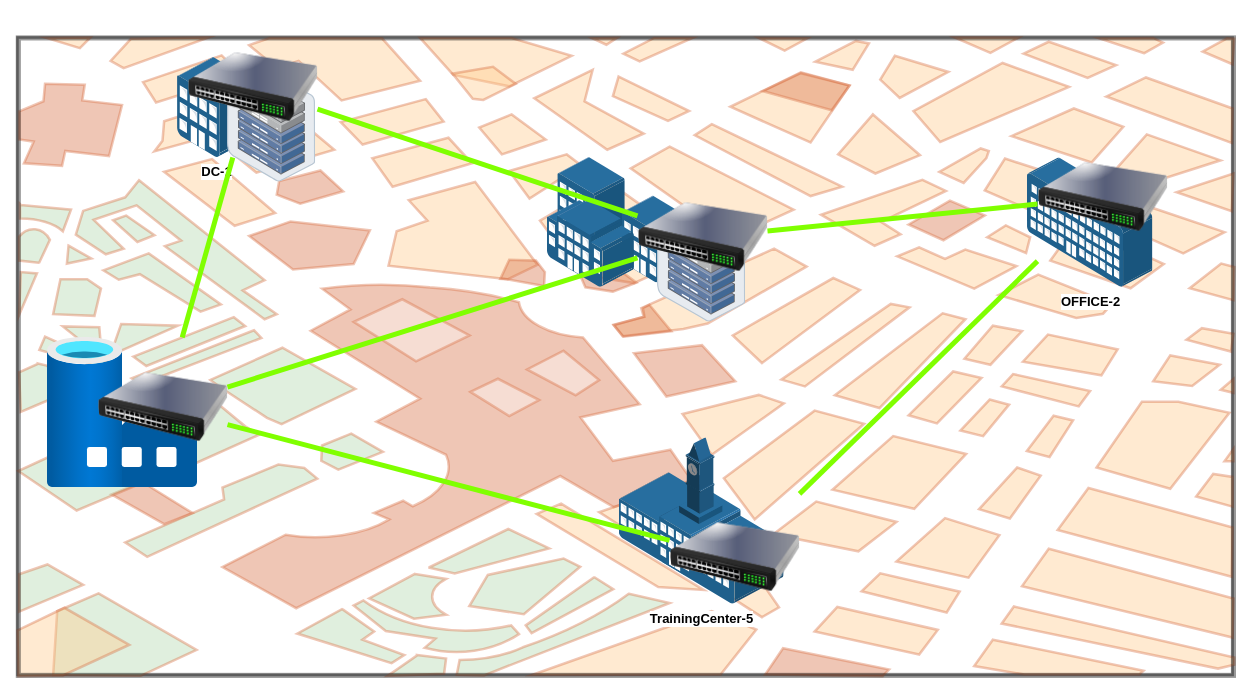
Image size: 1255x695. Some labels were removed from this diagram. The shapes that lost their labels are listed below. From the top down, each one's box as (x1, y1, x2, y2) in pixels, then its label:
(547, 157, 689, 287): HQ-4
(47, 337, 197, 487): Factory-3
